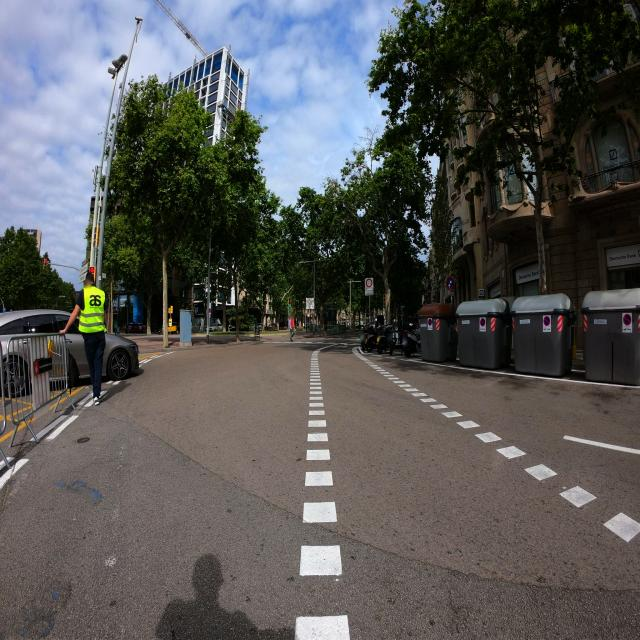car: (0, 307, 140, 393), (401, 322, 422, 354), (125, 320, 146, 334)
